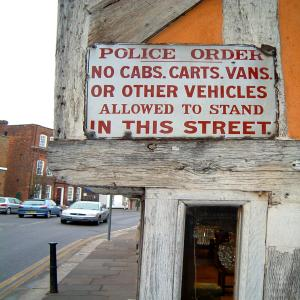Vehicle-registration-plate: (26, 212, 38, 214)
